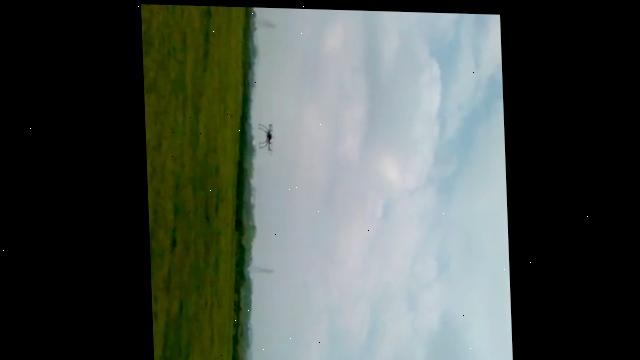drone: (254, 120, 275, 156)
